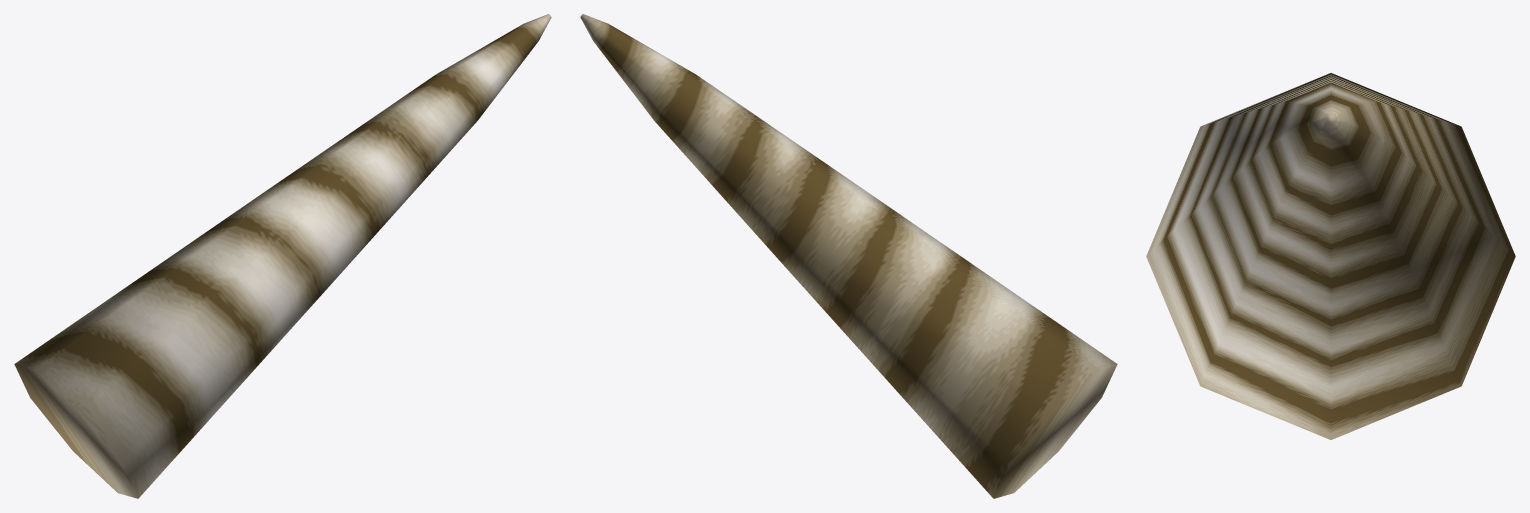
File: Unicorn.glb
The picture shows the model from 3 angles, left to right: view 1: azimuth 30°, elevation 25°; view 2: azimuth 150°, elevation 25°; view 3: azimuth 270°, elevation 25°; orthographic projection. The views are drawn at different scales.
Visible parts, largest first — view 1: Unicorn; view 2: Unicorn; view 3: Unicorn.
Part boxes in pixels (bbox=[...]): Unicorn: bbox=[14, 14, 551, 498]; Unicorn: bbox=[580, 14, 1117, 498]; Unicorn: bbox=[1146, 73, 1515, 439].
Bounding box in the file's own units: 1.39 × 0.9594 × 0.4301.
1 material, 1 textured.
